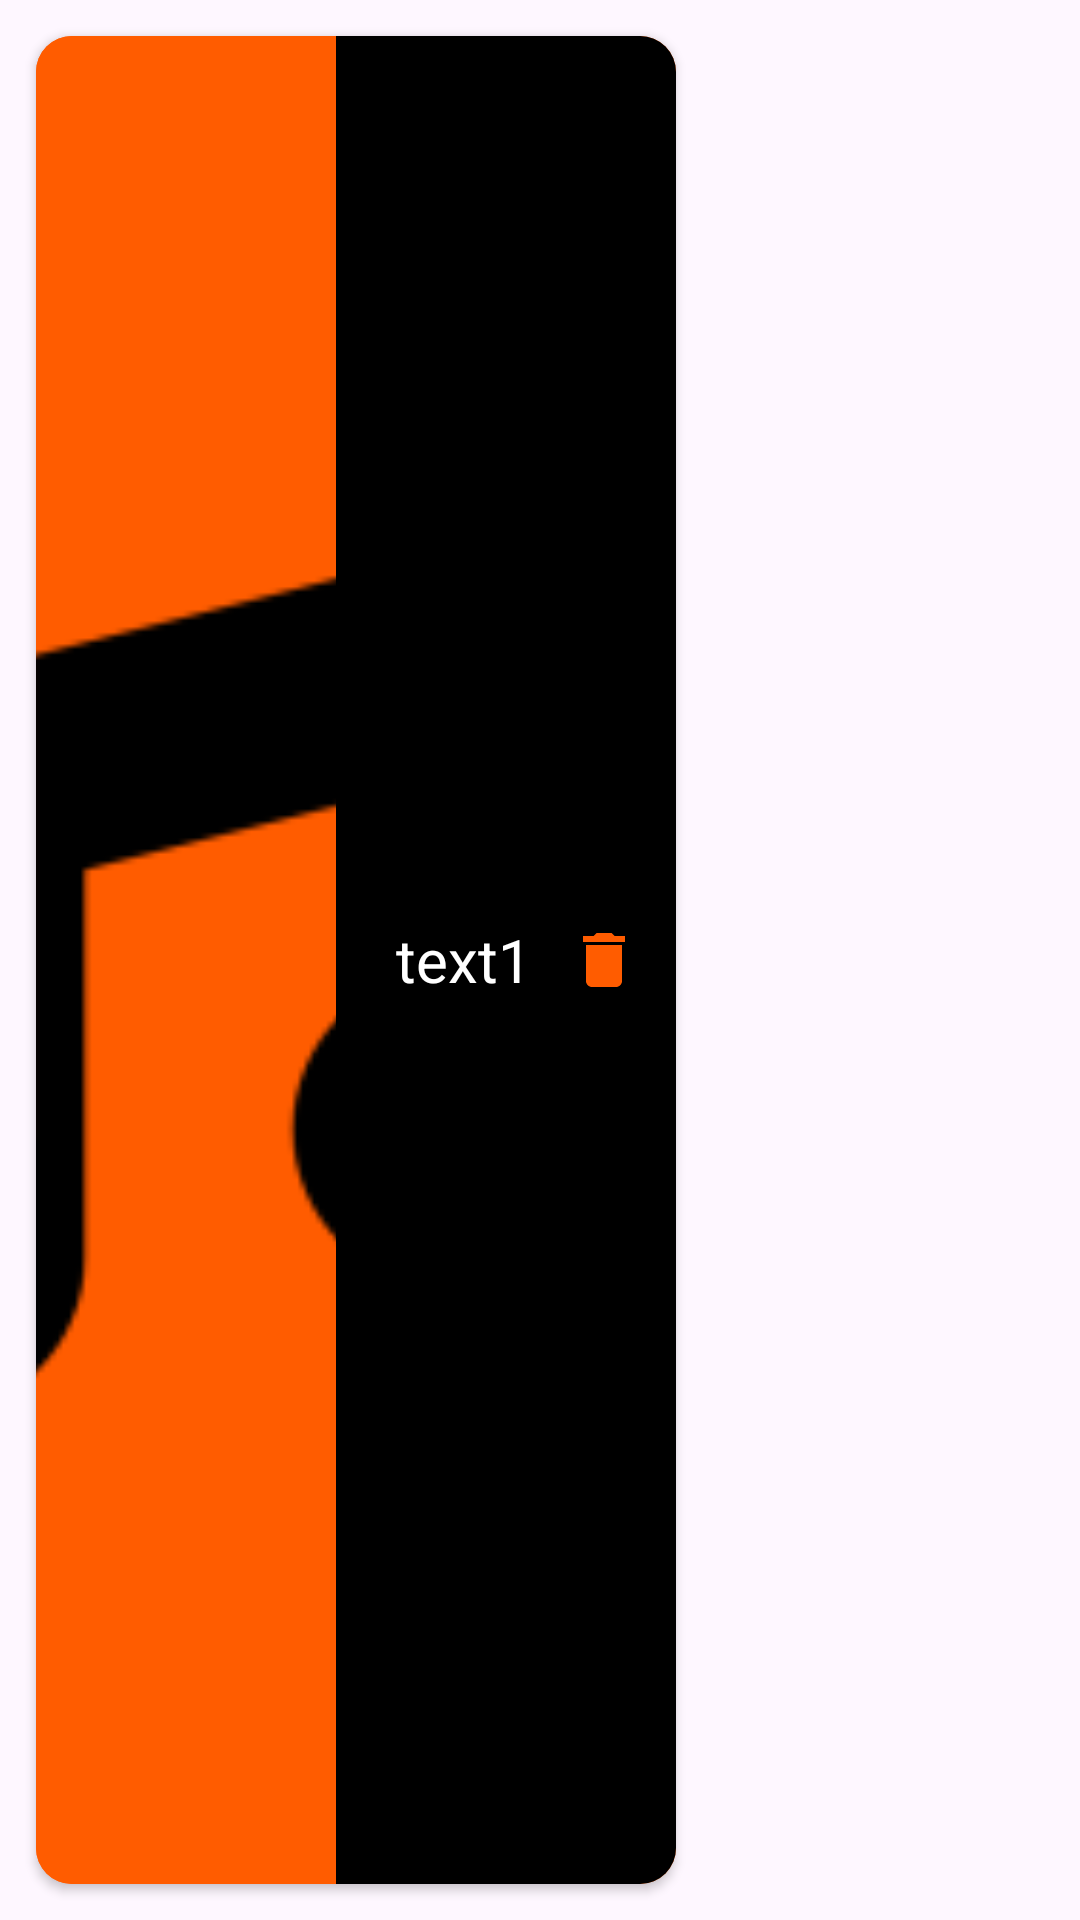

Screen size 1080 x 1920. Icon name, then its center in pixels as point (x, y):
Delete: point (604, 960)
